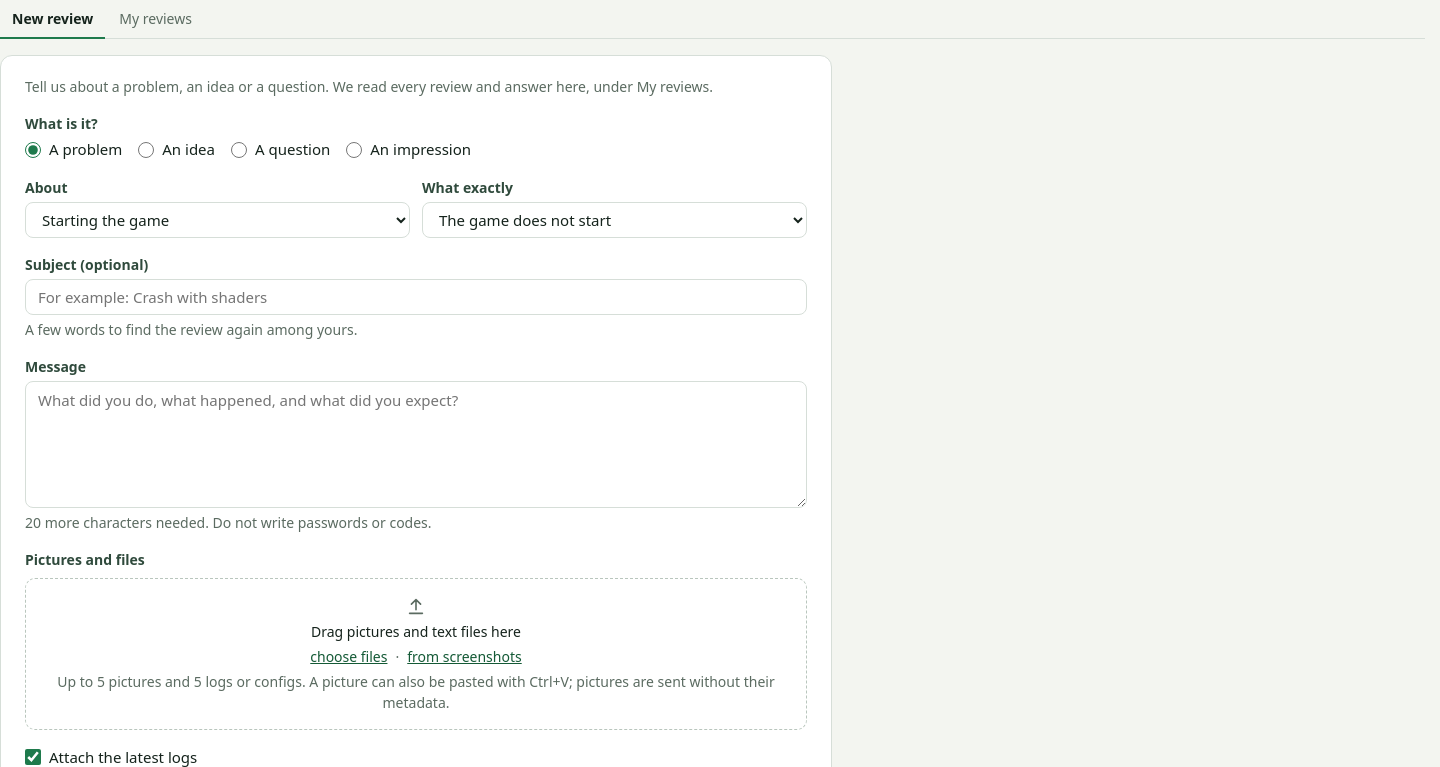
Test case: ReviewsView › rates only an impression, and attaches no logs to it
The width and height of the screenshot is (1440, 767).
Expected: the text "Your rating" is not shown
Click the radio button labelled "An impression" at point(354, 150), box [346,142,362,158]
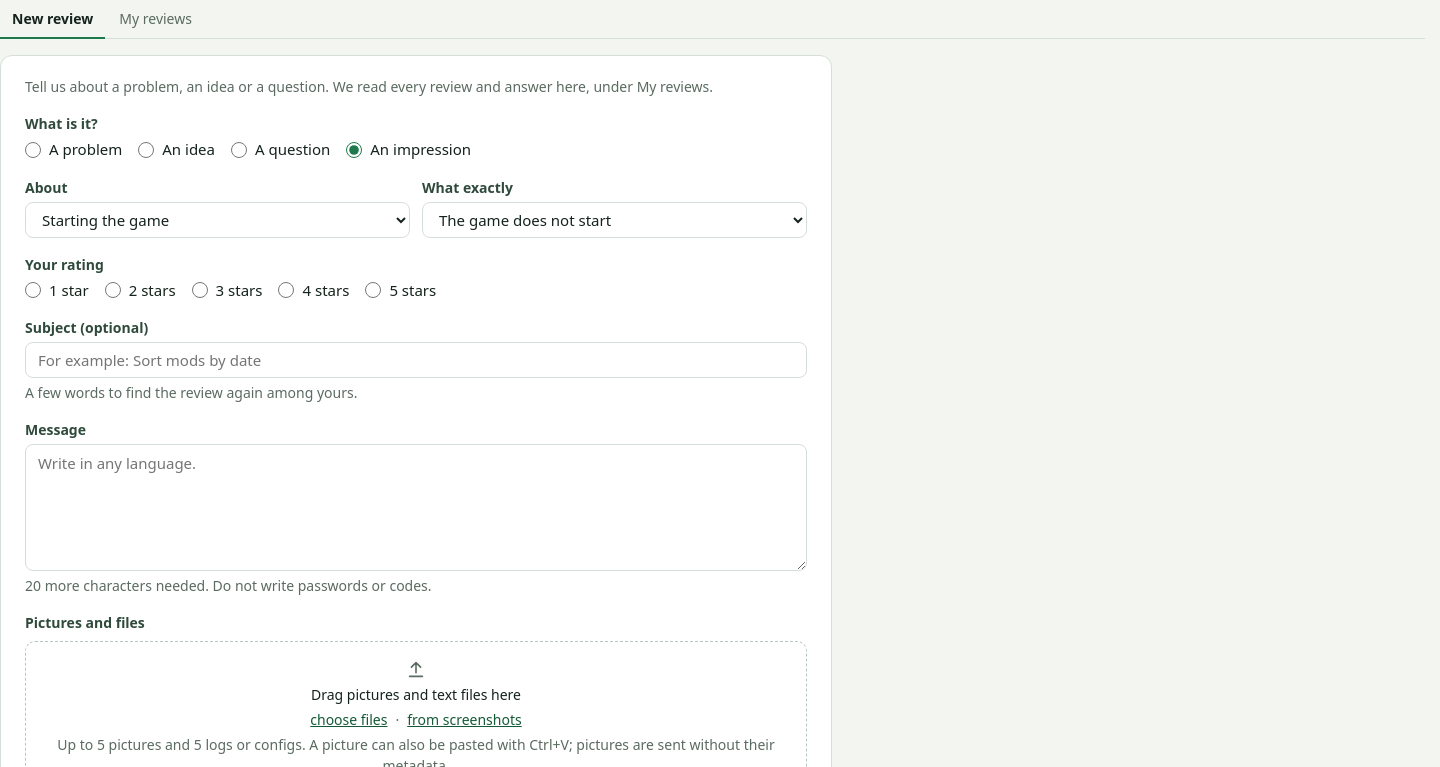
Click the radio button labelled "4 stars" at point(286, 290), box [278,282,294,298]
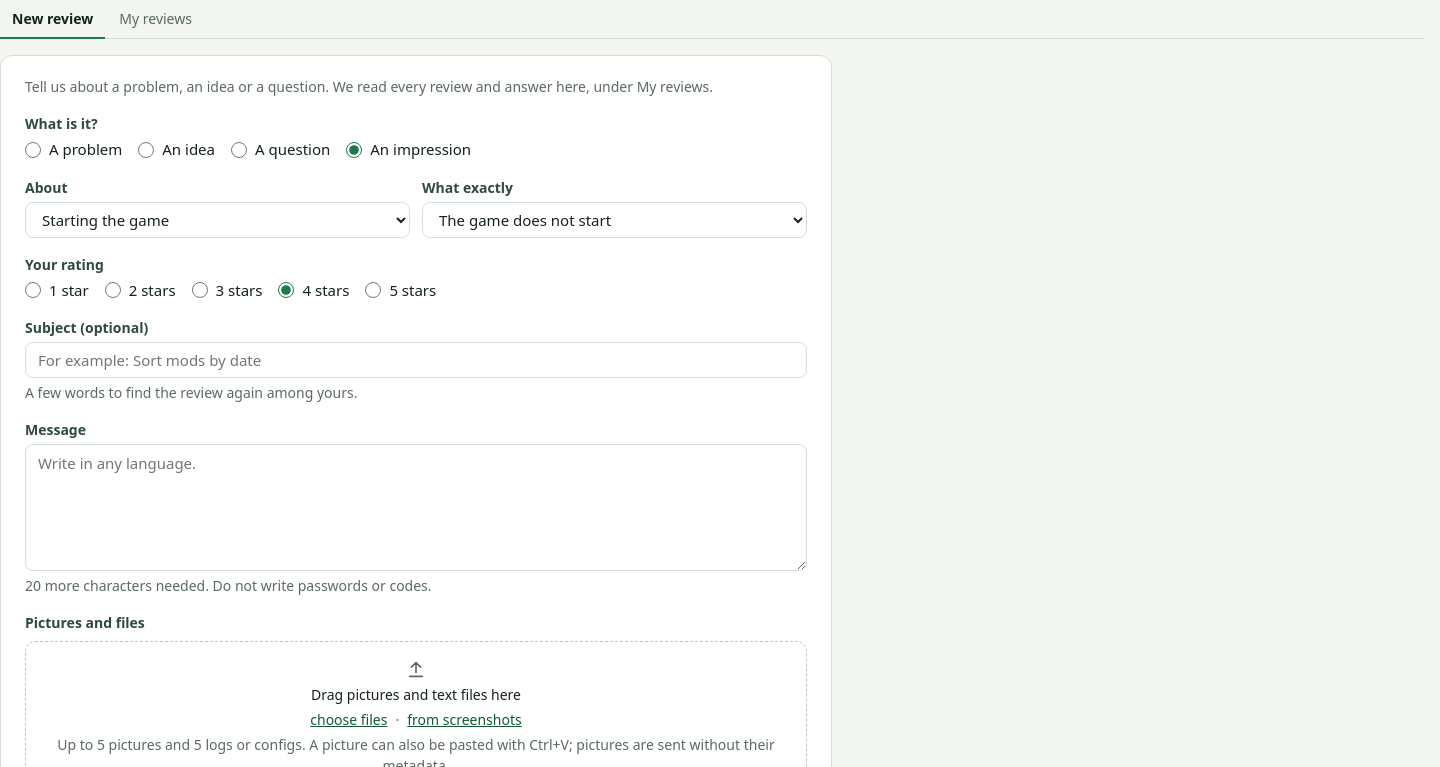
Type "The game closes when I open a world with Sodium." into the text box labelled "Message" at point(416, 508), box [25,444,807,571]
(page scrolled)
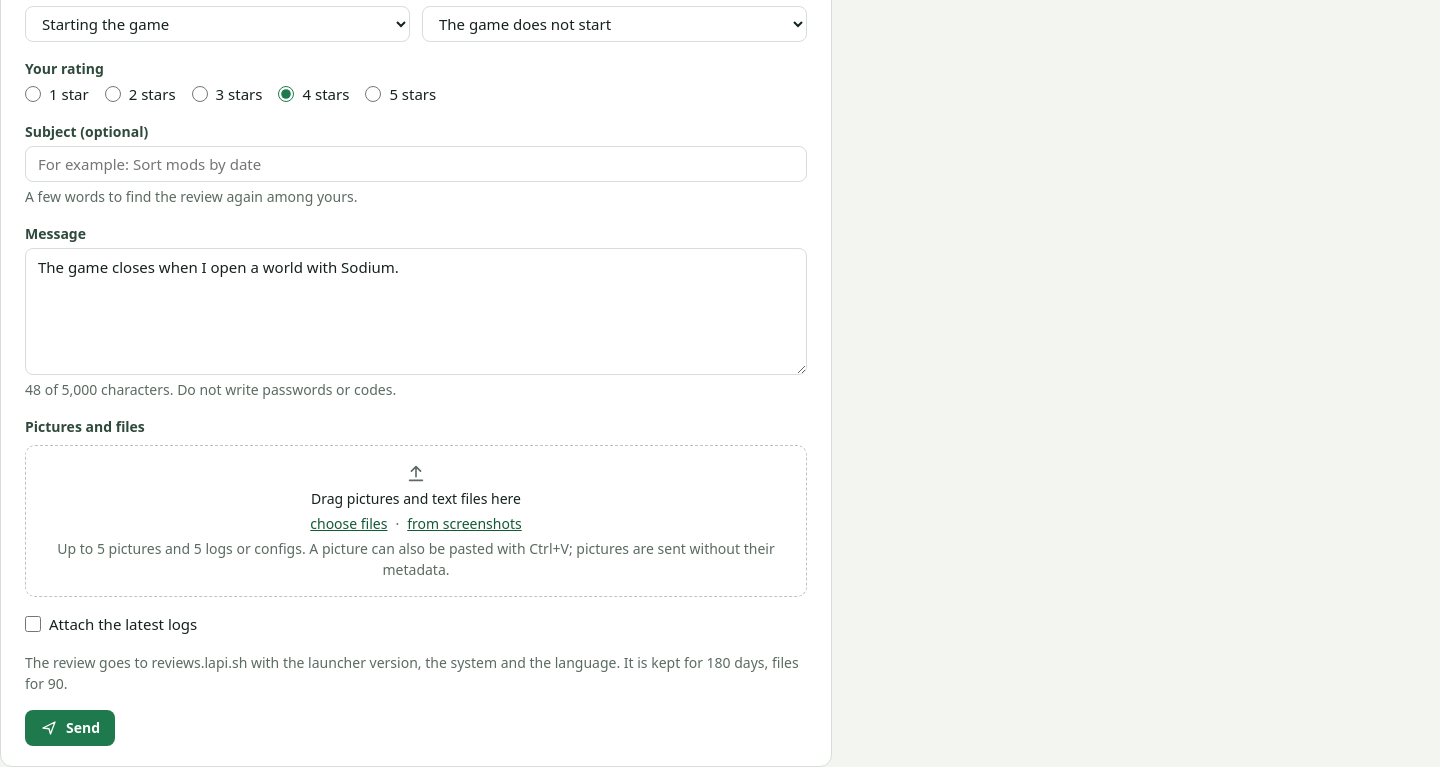
Click the button "Send" at point(70, 728), box [25,710,115,746]
(page scrolled)
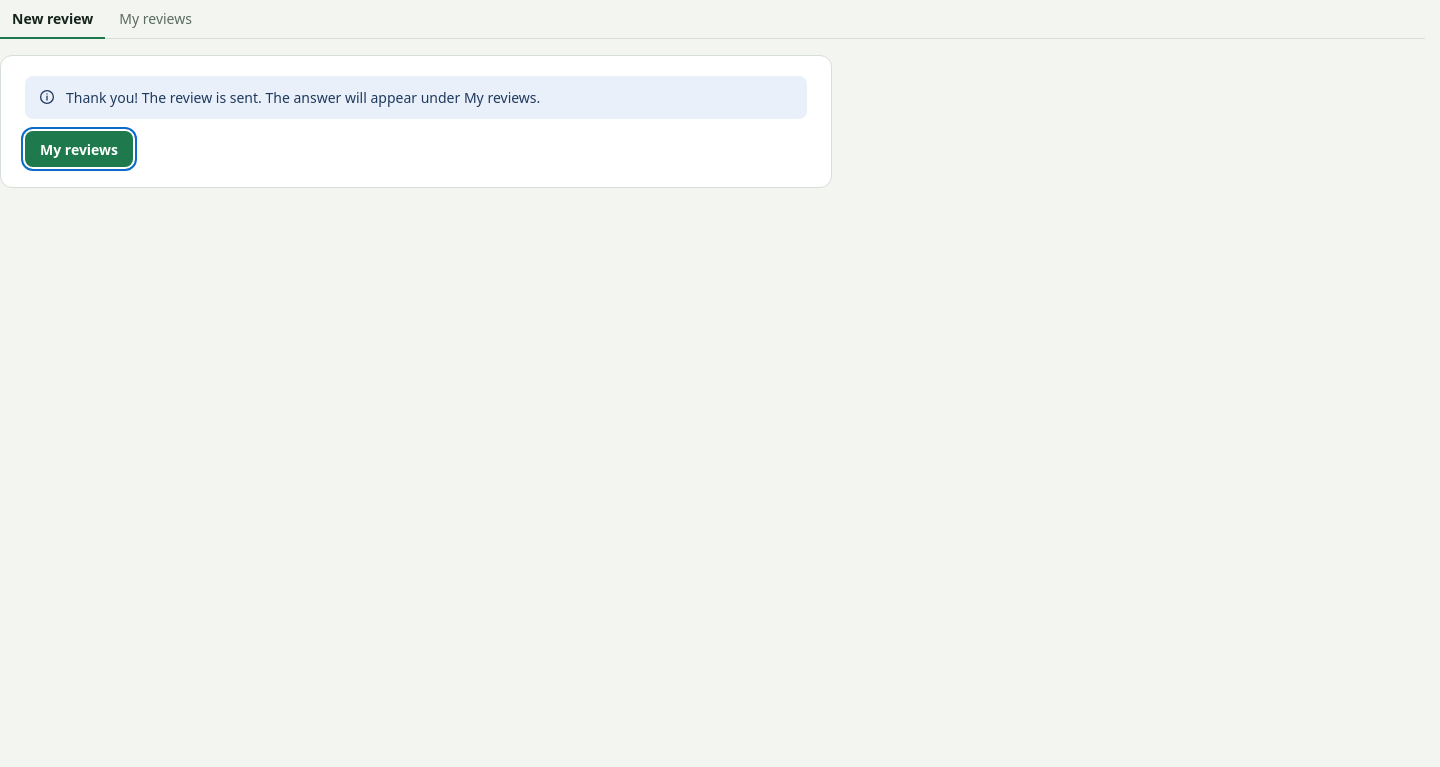
Expected: the text "The review is sent" is shown, [66,88,540,107]
